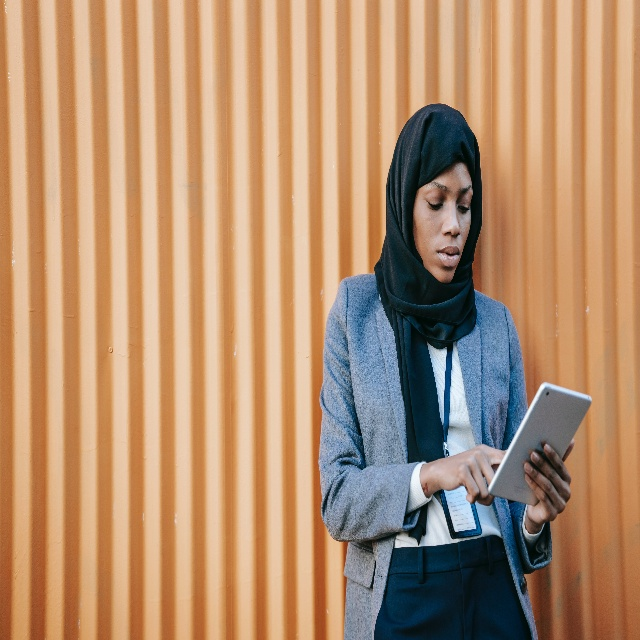Sin_guantes: (523, 438, 575, 528), (434, 444, 507, 507)
